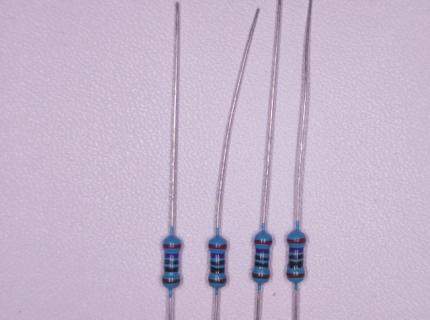Black band: (288, 260, 303, 269), (211, 267, 225, 274), (255, 261, 268, 268), (255, 255, 270, 261), (289, 254, 304, 260), (165, 266, 179, 272), (210, 260, 225, 265), (165, 260, 179, 265)
Brown band: (162, 277, 181, 284), (252, 272, 270, 279), (286, 272, 305, 278), (208, 278, 227, 284)
Red band: (287, 237, 306, 244), (209, 243, 227, 249), (254, 239, 272, 245), (163, 244, 181, 249)
Violet band: (289, 247, 303, 252), (256, 248, 270, 253), (211, 253, 225, 258), (165, 253, 179, 258)
